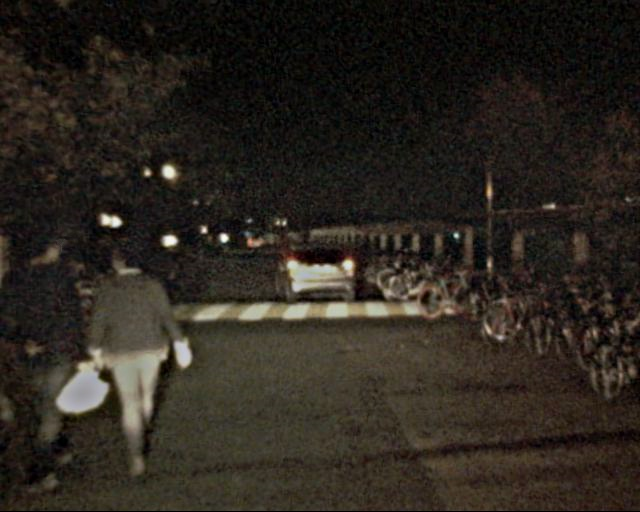person: (14, 215, 82, 481), (104, 229, 183, 456)
